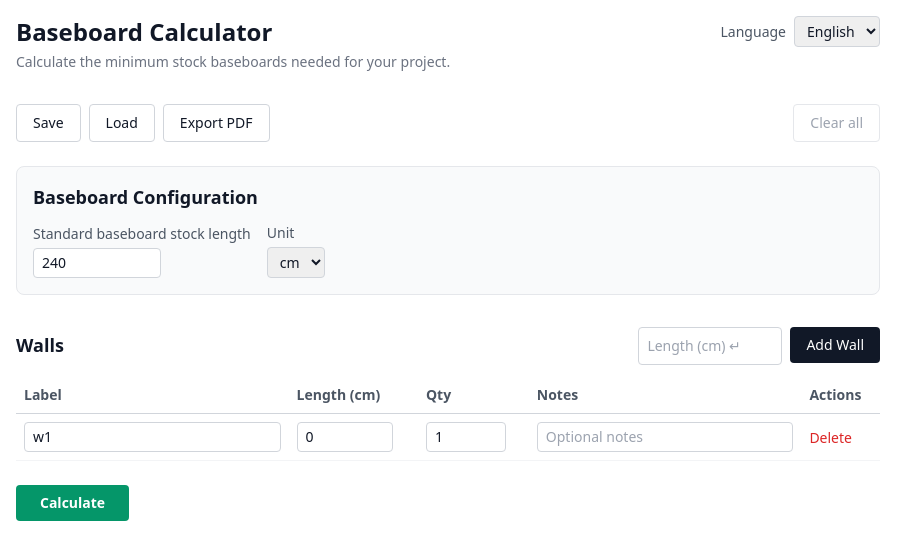
App › quick-entry wall length › accepts a comma as the decimal separator
Type "2,4" into the field with test id "quick-add-input" at (710, 346), box [638,327,782,365]
Then press Enter
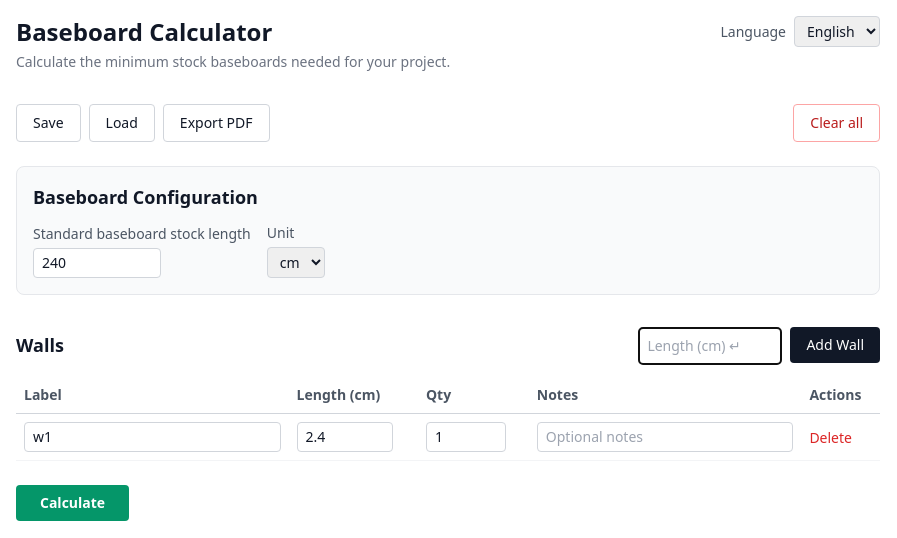
Check: the number field named "Length" holds "2.4", box [297,422,393,452]
